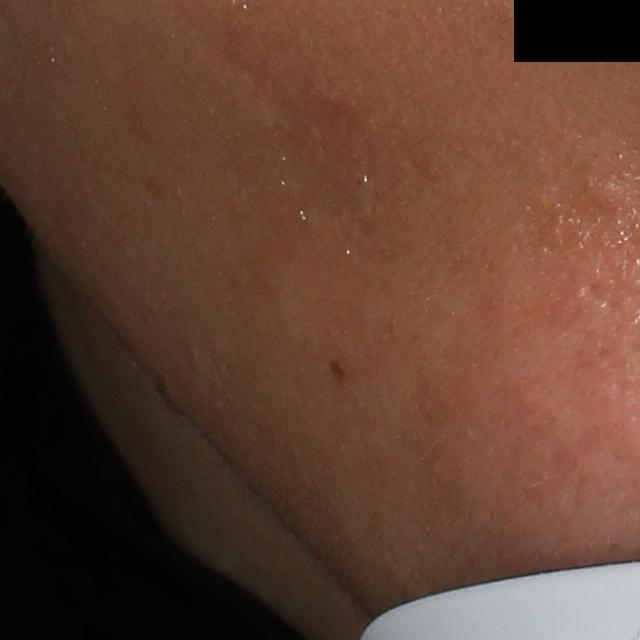atrophic_scar: (579, 280, 616, 310)
nevus: (329, 359, 350, 384)
